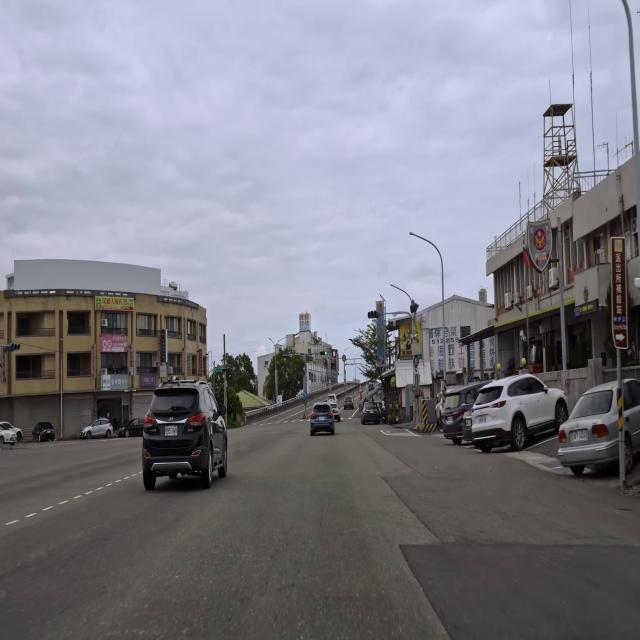green light: (320, 351, 327, 355)
